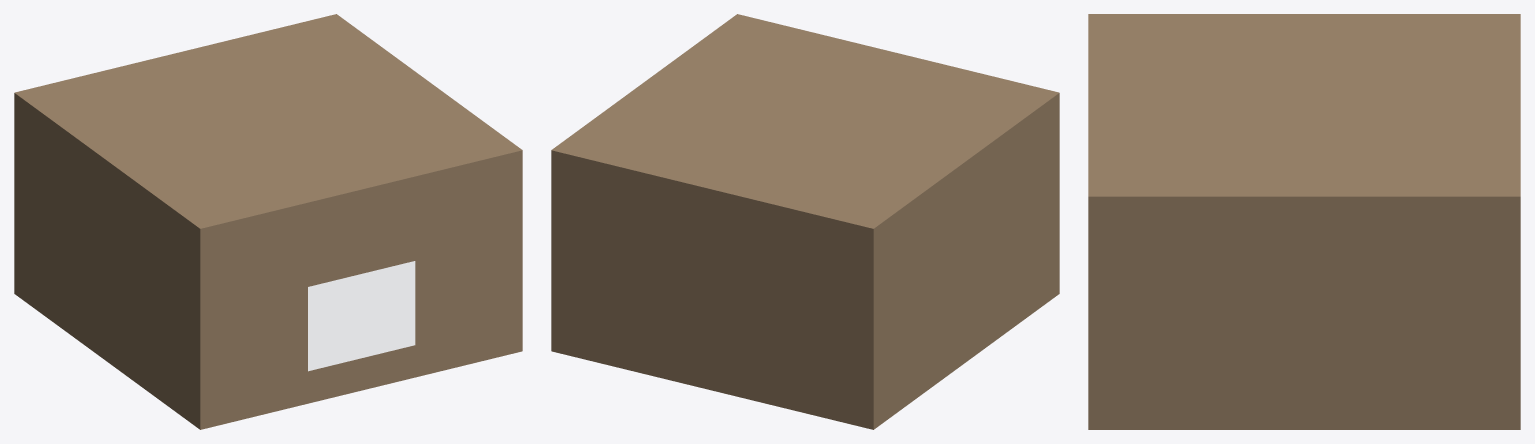
File: rooms.glb
3 renders of one model, left to right at view 1: azimuth 30°, elevation 25°; view 2: azimuth 150°, elevation 25°; view 3: azimuth 270°, elevation 25°, orthographic. The views are drawn at different scales.
Parts seen in each view (by area): view 1: OneDoor; view 2: OneDoor; view 3: OneDoor.
Boxes of the visible parts, x1,y1,x2,y2 form: OneDoor: (14,14,522,429); OneDoor: (551,14,1059,429); OneDoor: (1088,14,1520,429).
Bounding box in the file's own units: 4 × 2.38 × 4.
